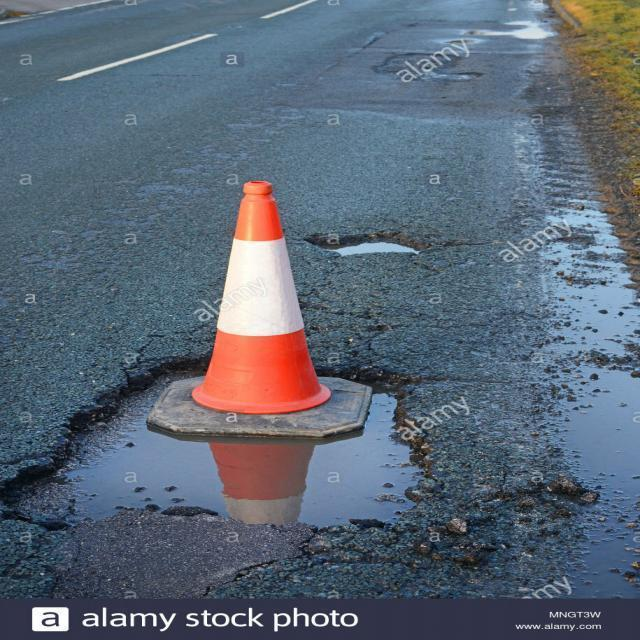pothole: (1, 189, 581, 591)
